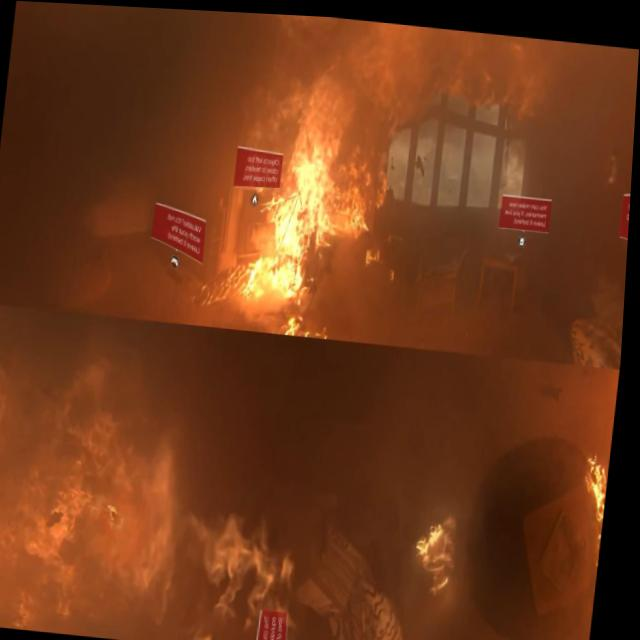fire: (214, 108, 380, 322), (572, 443, 616, 565), (417, 502, 468, 598)
